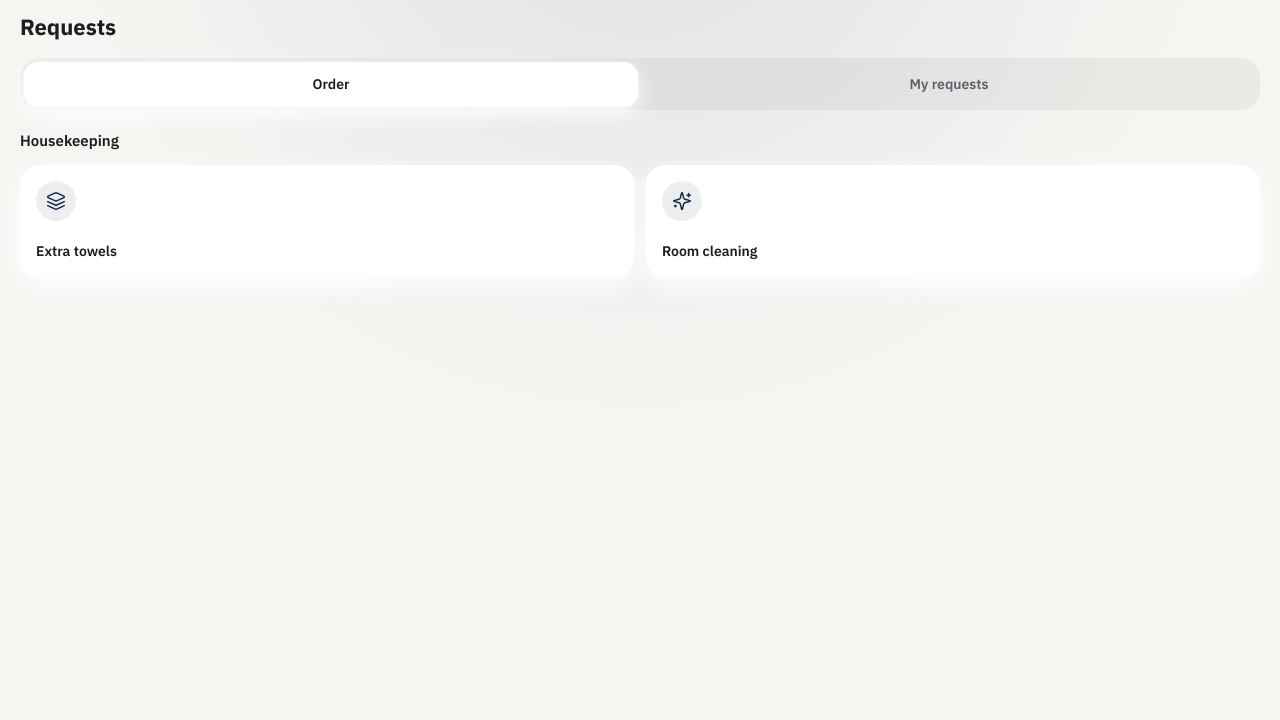
Test: RequestsScreen (15.2) › AC5 — the throttle error shows the friendly limit copy
Click the button with test id "catalog-item-item-clean" at (682, 201), box [646,165,1260,277]
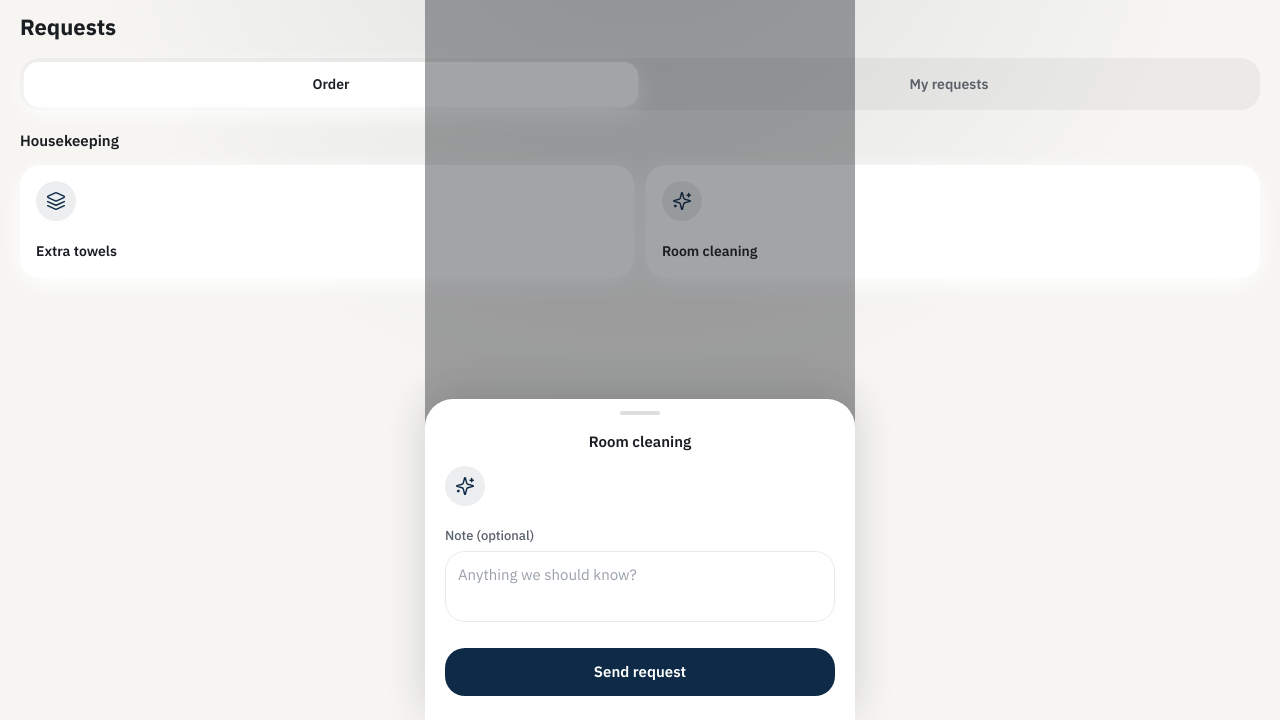
Click the button "Send request" at (640, 672), box [445,648,835,696]
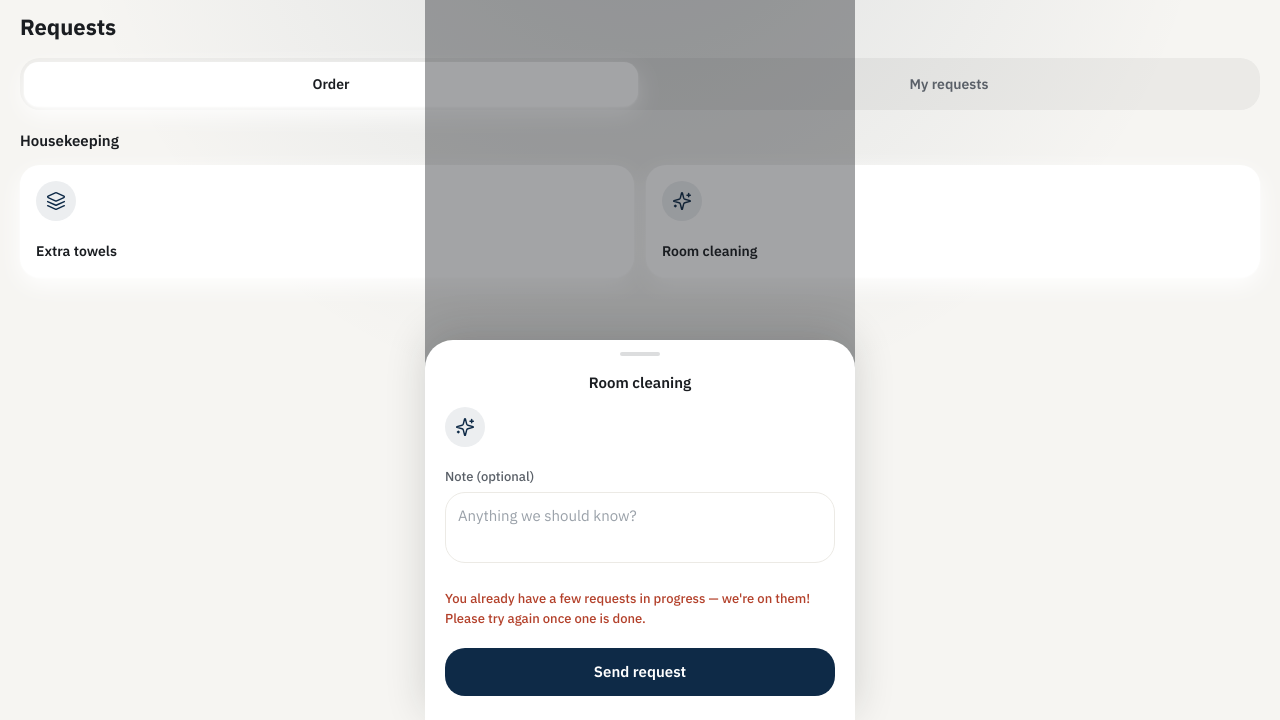
expect the text "requests in progress" is shown: met, box [445,590,810,626]
